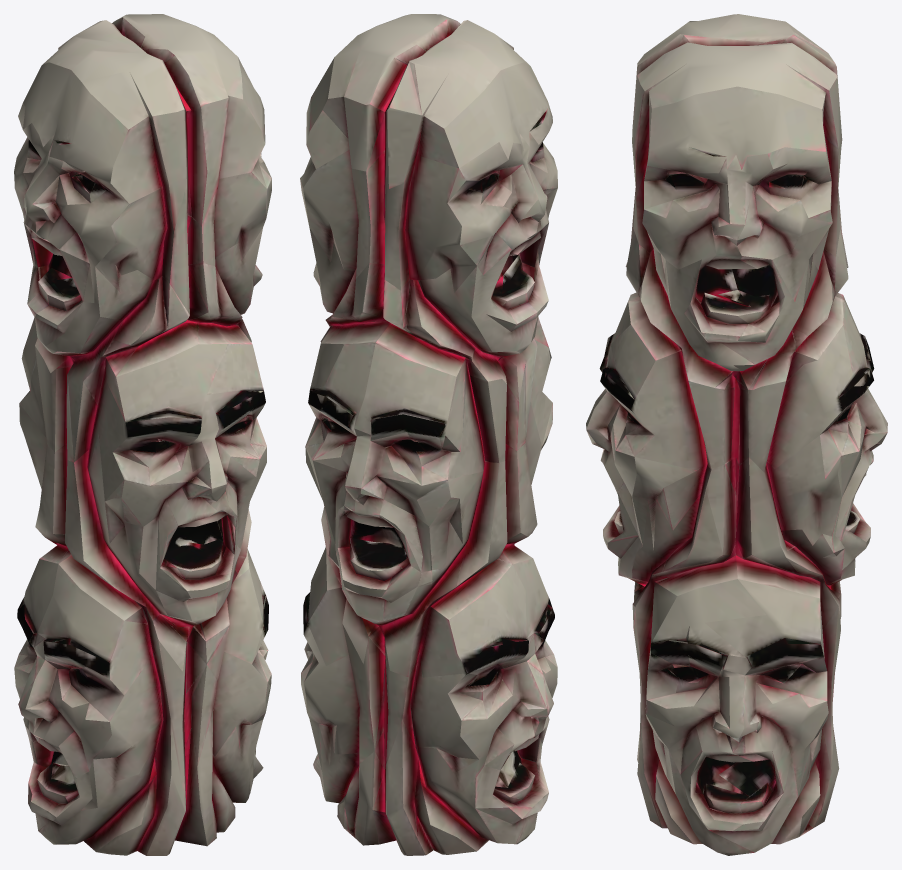
Rendered from totem.glb.
3 renders of one model, left to right at view 1: azimuth 30°, elevation 25°; view 2: azimuth 150°, elevation 25°; view 3: azimuth 270°, elevation 25°, orthographic.
Visible parts, largest first — view 1: mesh_node; view 2: mesh_node; view 3: mesh_node.
Part boxes in pixels (box(x1,y1,x2,y2)): mesh_node: box(14, 14, 271, 855); mesh_node: box(300, 14, 557, 855); mesh_node: box(586, 14, 887, 855).
Bounding box in the file's own units: 0.6197 × 1.9 × 0.6735.
Materials: 1 (1 with a texture image).
